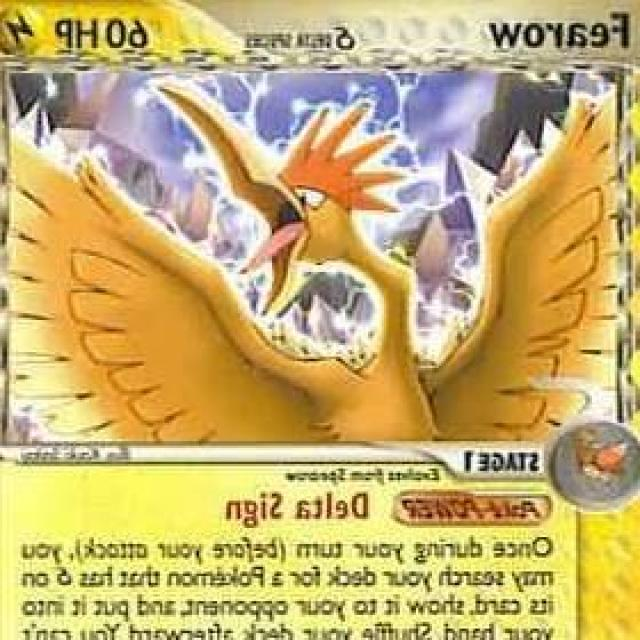Fearow: (78, 101, 551, 443)
